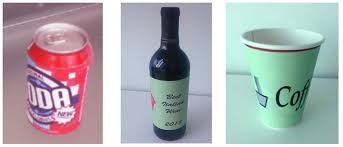bottle: (147, 4, 196, 142)
